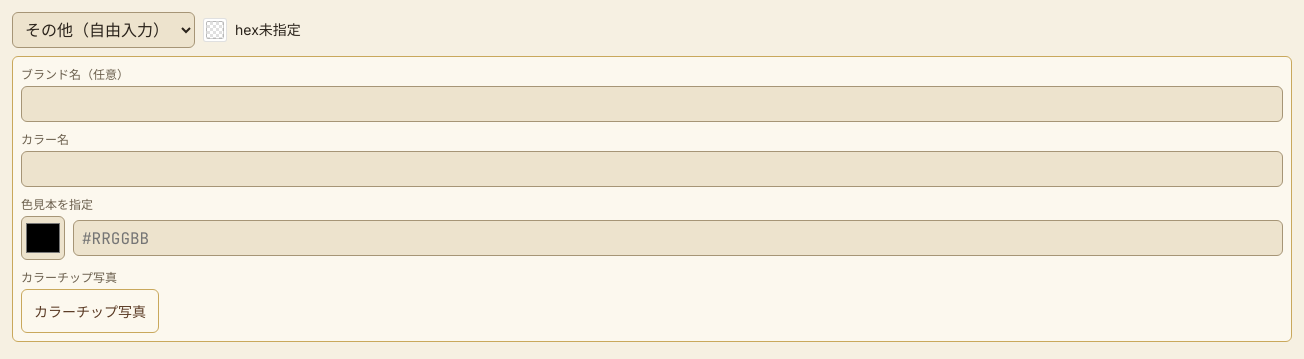
PaintPicker — レンジフィルタ › rangeを持たないブランド（Citadel）ではレンジフィルタが表示されない
Select "Citadel" in the dropdown named "メーカー" at {"x": 104, "y": 30}, box x1=12 y1=12 x2=195 y2=48
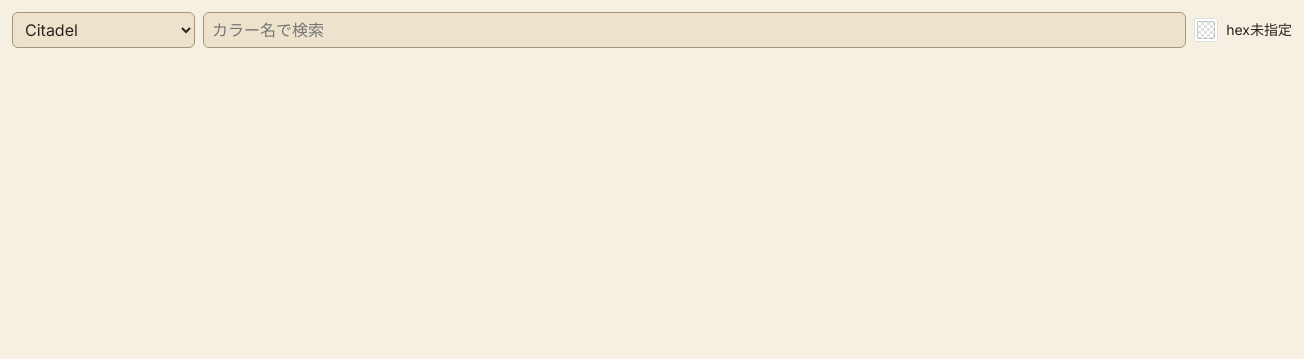
Result: the dropdown labelled "カラー" is shown at x1=203 y1=12 x2=1186 y2=48
